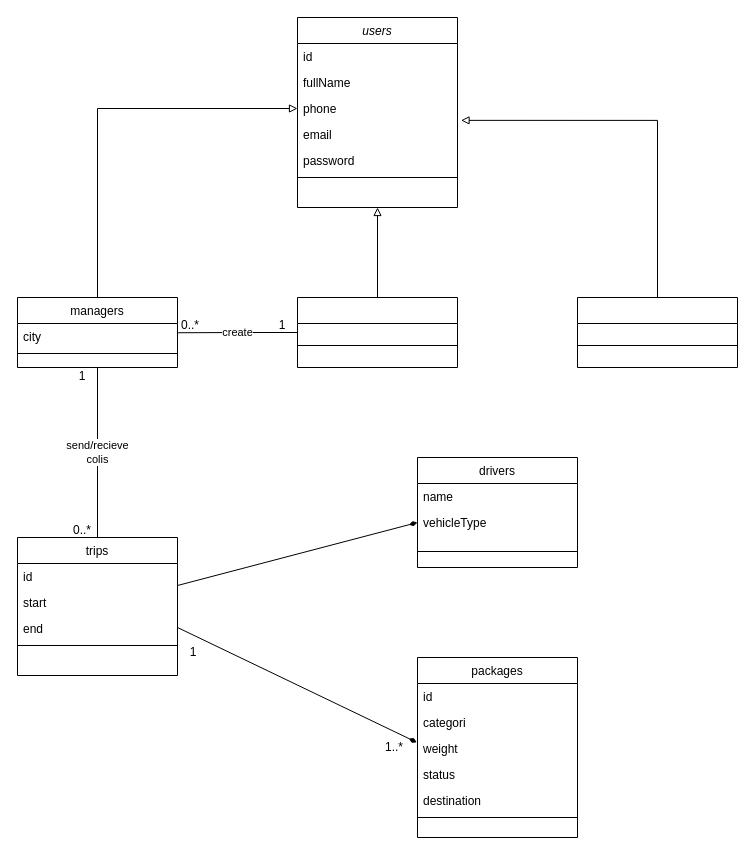
The diagram is 755 pixels wide and 855 high, and some of its shapes have lost their labels. Here are the shapes that lost their labels. From the top down, the centre of each, then its label:
point (377, 332): admins
point (657, 332): clients
